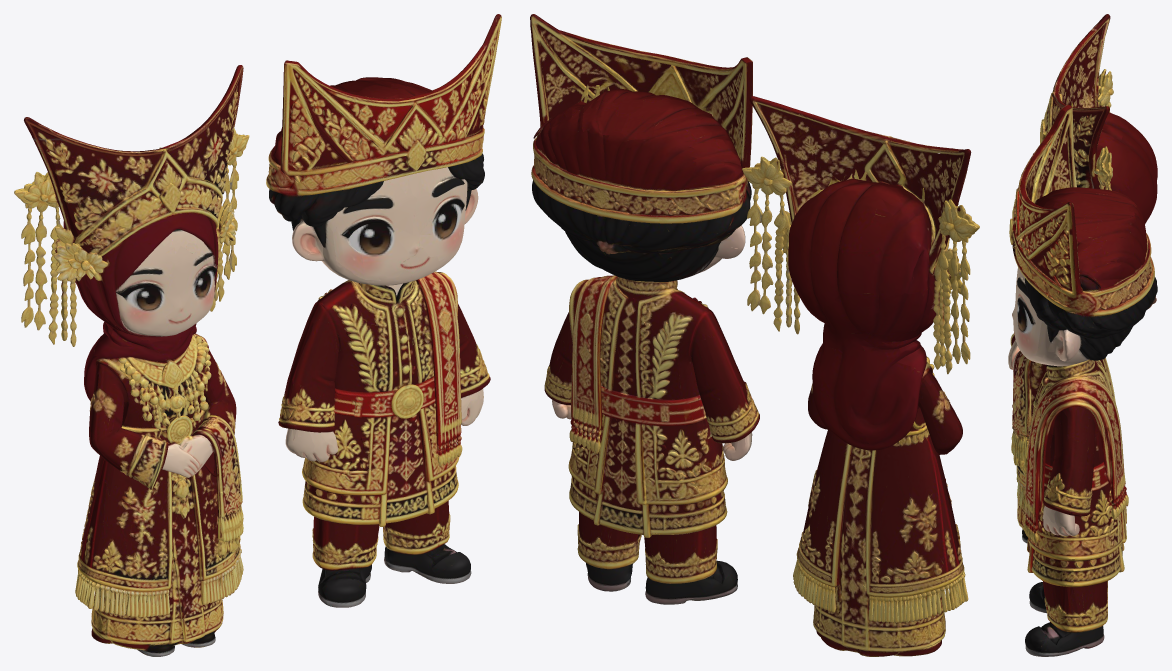
The model's file is couple.glb.
3 renders of one model, left to right at view 1: azimuth 30°, elevation 25°; view 2: azimuth 150°, elevation 25°; view 3: azimuth 270°, elevation 25°, orthographic. The views are drawn at different scales.
Visible parts, largest first — view 1: output_unwrapped; view 2: output_unwrapped; view 3: output_unwrapped.
Boxes of the visible parts, box(x1,y1,x2,y2) form: output_unwrapped: box(14, 14, 501, 656); output_unwrapped: box(530, 14, 979, 656); output_unwrapped: box(1008, 14, 1157, 656).
Size of the model in its own units: 1.72 by 1.9 by 0.538.
Materials: 1 (1 with a texture image).
